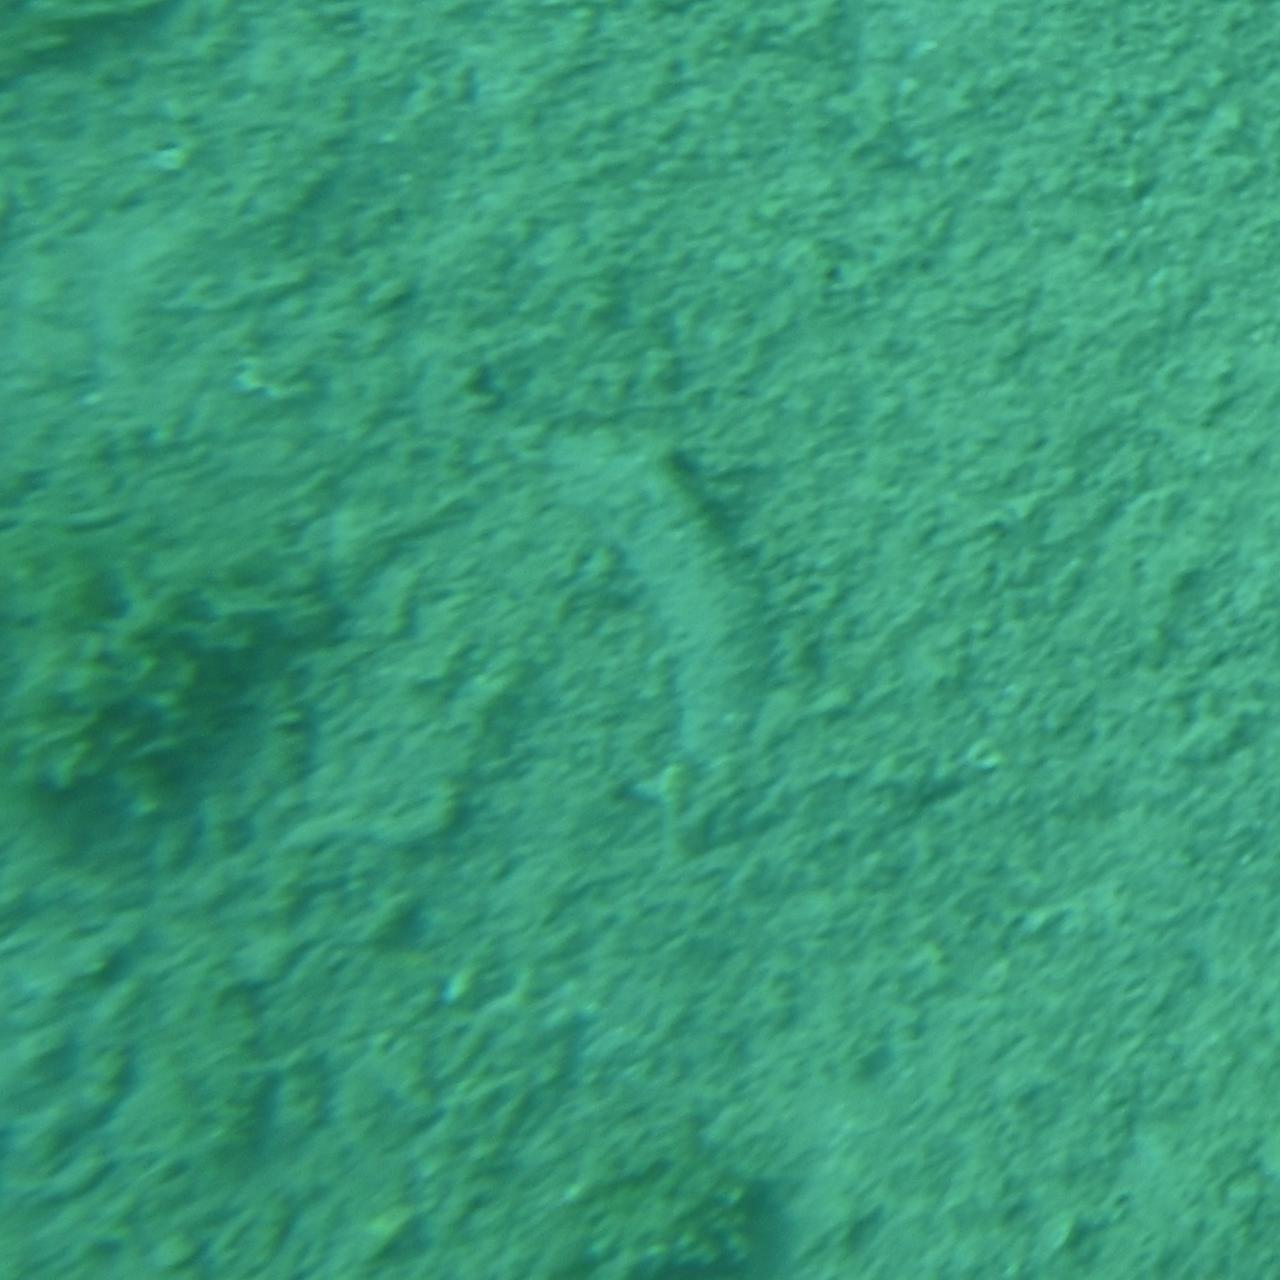Holothuria tubulosa: (508, 424, 772, 856)
